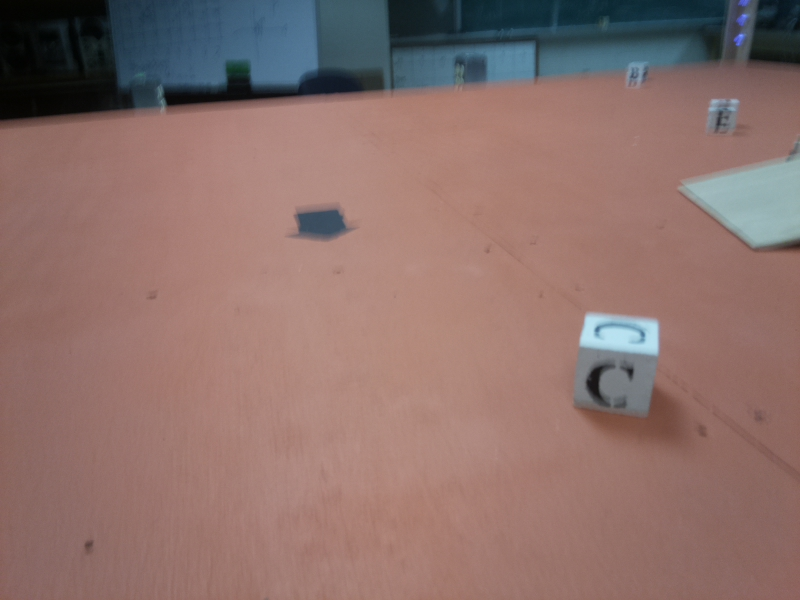blockB: (625, 64, 654, 90)
blockC: (575, 304, 669, 421)
blockE: (707, 99, 743, 139)
corner: (721, 2, 762, 70)
slope: (674, 153, 800, 246)
start: (282, 206, 363, 241)
